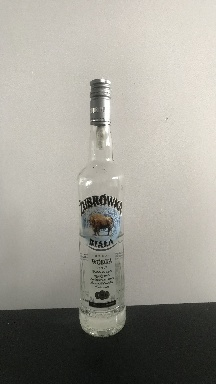butelka: (76, 75, 127, 343)
